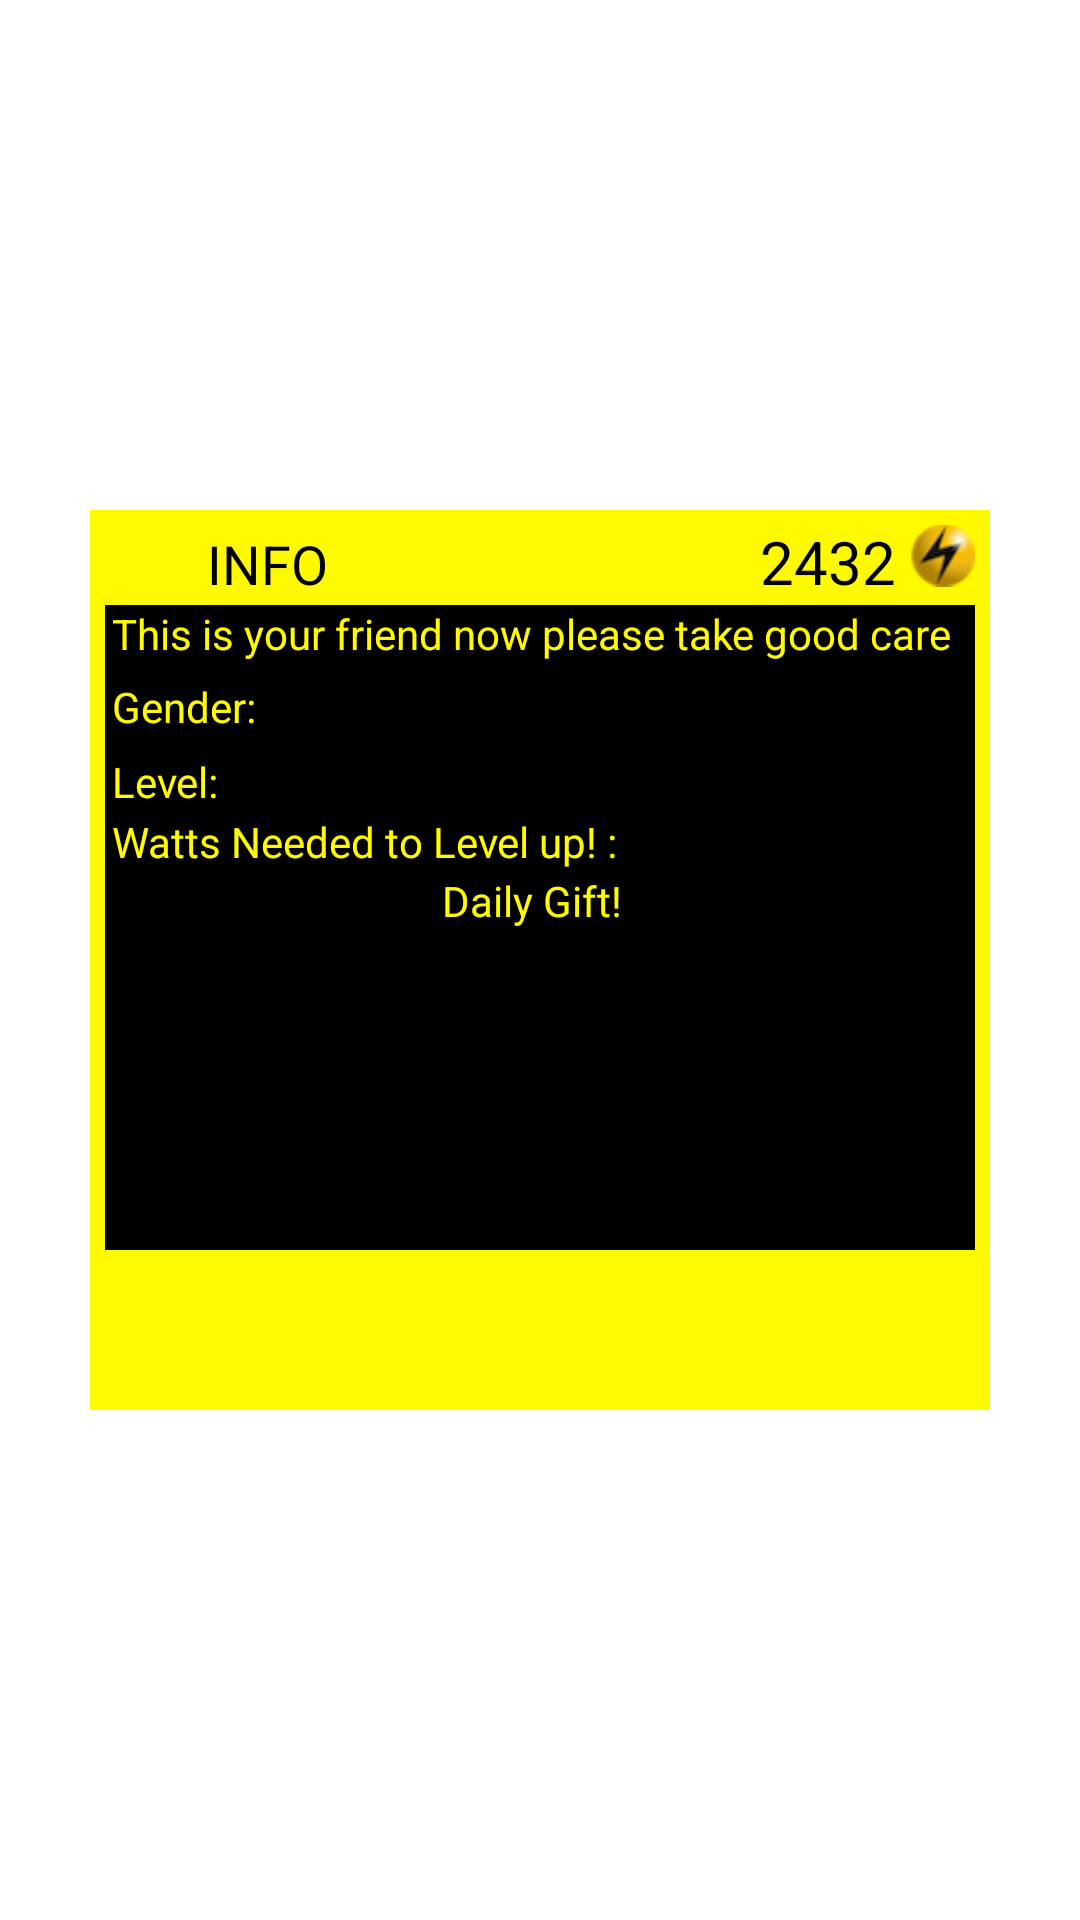

Point at icon controls on the screen. Image size 1080*1920, points as [x,y].
thunder: [943,556]
